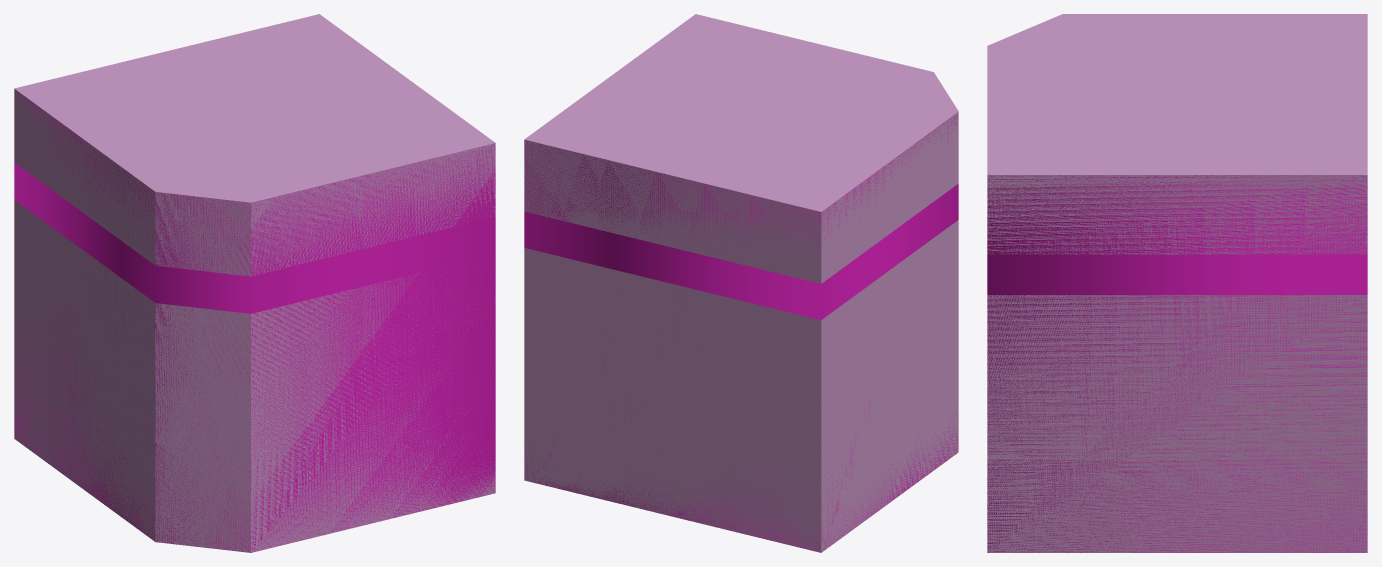
Rendered from building12.fbx.
The picture shows the model from 3 angles, left to right: view 1: azimuth 30°, elevation 25°; view 2: azimuth 150°, elevation 25°; view 3: azimuth 270°, elevation 25°; orthographic projection. The views are drawn at different scales.
Visible parts, largest first — view 1: building12_MESH, building12_COL; view 2: building12_MESH, building12_COL; view 3: building12_MESH, building12_COL.
Boxes of the visible parts, bbox=[...] form: building12_MESH: bbox=[14, 14, 495, 552]; building12_COL: bbox=[14, 89, 495, 552]; building12_MESH: bbox=[524, 14, 958, 552]; building12_COL: bbox=[524, 113, 958, 552]; building12_MESH: bbox=[987, 14, 1367, 552]; building12_COL: bbox=[987, 175, 1367, 552].
Bounding box in the file's own units: 673 × 673 × 738.
